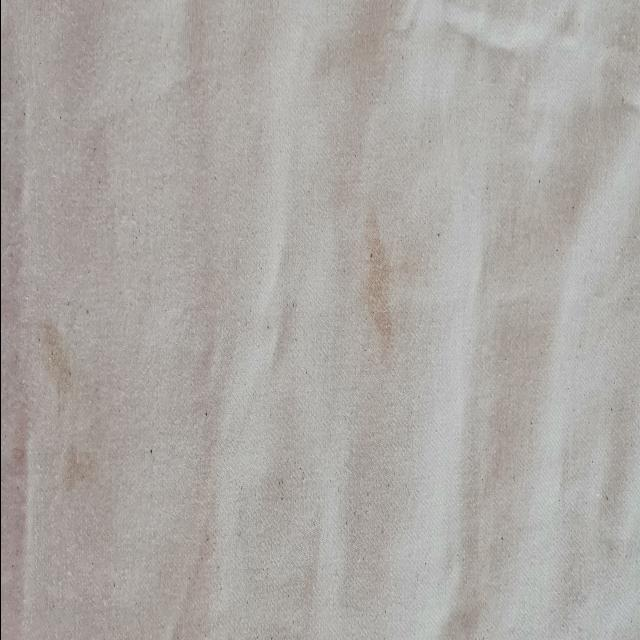taaaches: (342, 208, 408, 358), (22, 309, 84, 399), (61, 434, 102, 497)
